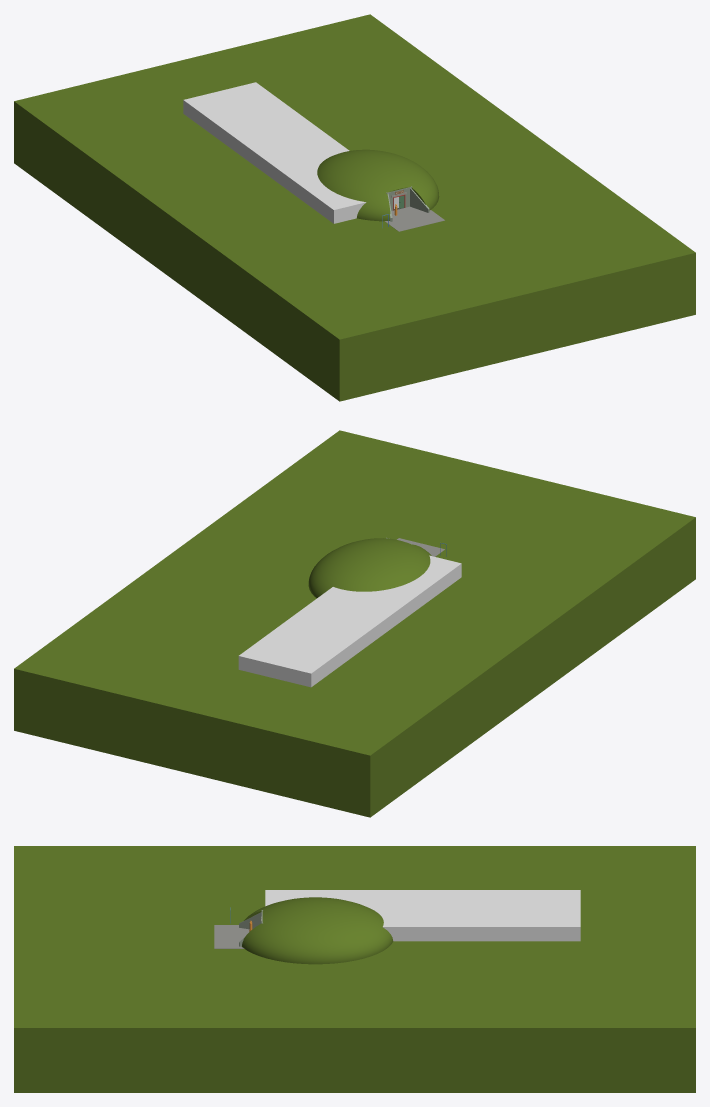
File: ark_two_v003.glb
The picture shows the model from 3 angles, top to bottom: view 1: azimuth 30°, elevation 25°; view 2: azimuth 150°, elevation 25°; view 3: azimuth 270°, elevation 25°; orthographic projection. The views are drawn at different scales.
Parts seen in each view (by area): view 1: Ground_Soil, Zone_Interior, Earth_Mound, Apron_Concrete; view 2: Ground_Soil, Zone_Interior, Earth_Mound; view 3: Ground_Soil, Zone_Interior, Earth_Mound, Apron_Concrete.
Part boxes in pixels (box(x1,y1,x2,y2)): Ground_Soil: box(14, 14, 695, 401); Zone_Interior: box(183, 82, 398, 223); Earth_Mound: box(317, 149, 439, 221); Apron_Concrete: box(385, 206, 444, 231); Ground_Soil: box(14, 430, 695, 817); Zone_Interior: box(238, 555, 461, 687); Earth_Mound: box(308, 538, 431, 597); Ground_Soil: box(14, 846, 695, 1092); Zone_Interior: box(265, 890, 580, 941); Earth_Mound: box(242, 897, 393, 964); Apron_Concrete: box(214, 925, 249, 948).
Bounding box in the file's own units: 60 × 14.4 × 95.
